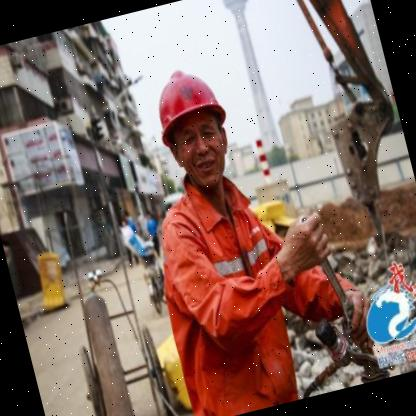capacete: (136, 50, 252, 200)
